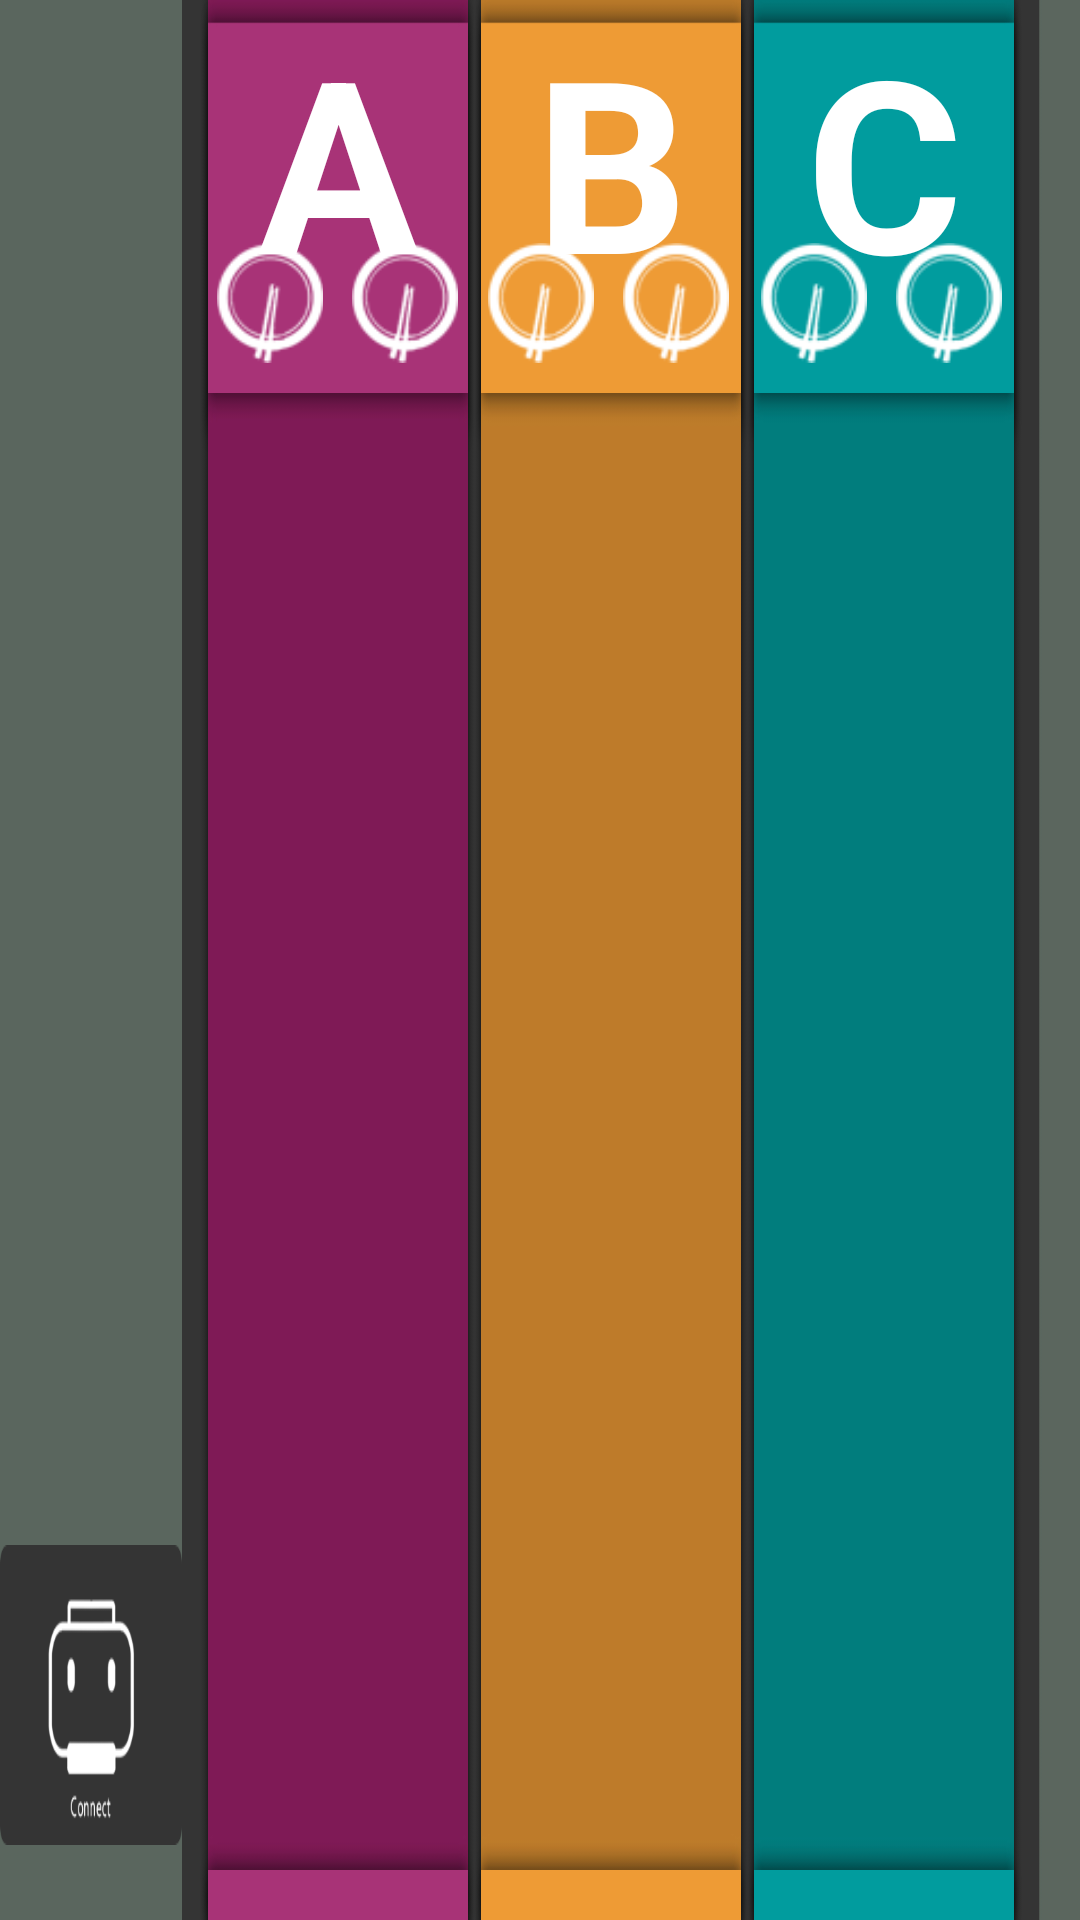

Named icons in this screenshot (1080px×1920px) and their centers, point (x, y):
dish: point (270, 303), point (405, 303), point (544, 303), point (676, 303), point (814, 303), point (945, 303)
